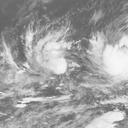cyclone: (25, 36, 69, 76), (99, 38, 127, 81)
